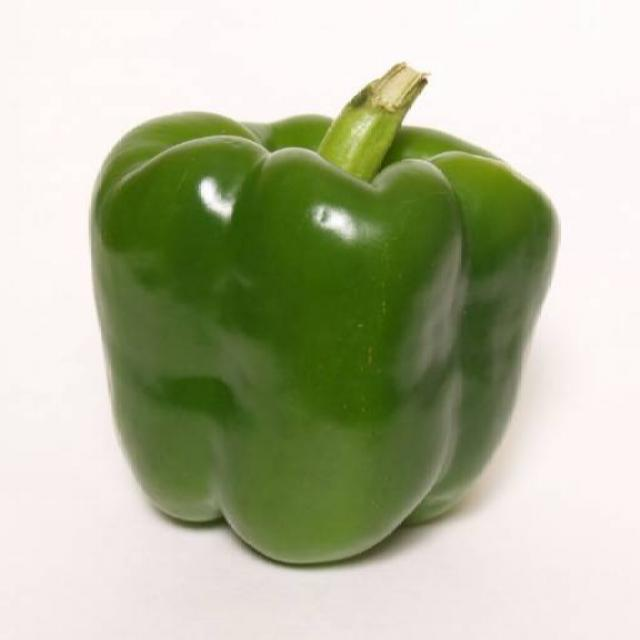bell pepper: (82, 96, 560, 572)
